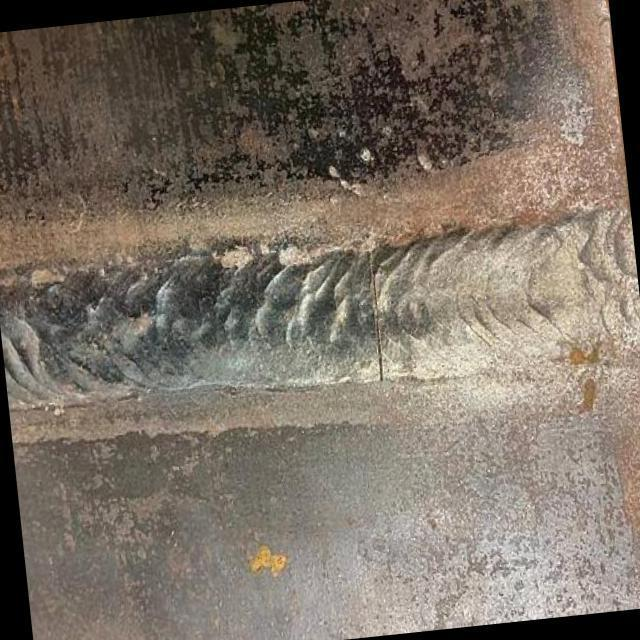defect: (365, 254, 387, 394)
